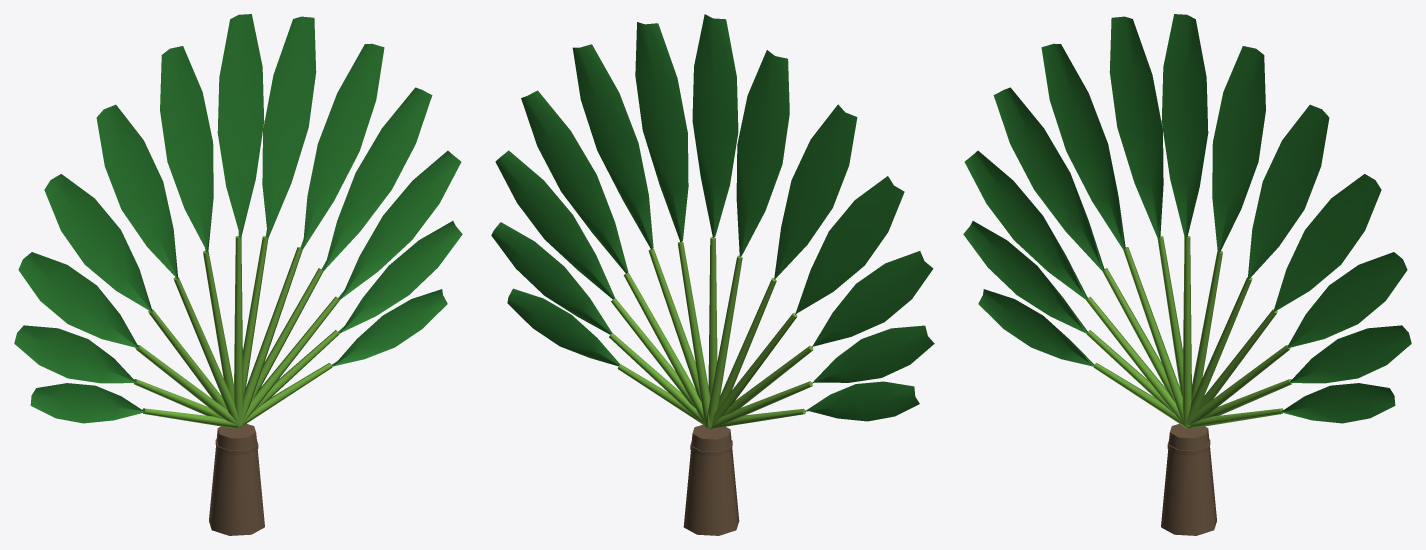
The model's file is tree_travelers_palm.glb.
The picture shows the model from 3 angles, left to right: view 1: azimuth 30°, elevation 25°; view 2: azimuth 150°, elevation 25°; view 3: azimuth 330°, elevation 25°; orthographic projection.
Visible parts, largest first — view 1: Fronds, Petioles, Trunk; view 2: Fronds, Petioles, Trunk; view 3: Fronds, Petioles, Trunk.
Part boxes in pixels (bbox=[...]): Fronds: bbox=[14, 14, 462, 423]; Petioles: bbox=[133, 236, 339, 428]; Trunk: bbox=[209, 423, 264, 535]; Fronds: bbox=[491, 14, 934, 421]; Petioles: bbox=[609, 237, 813, 429]; Trunk: bbox=[683, 424, 739, 535]; Fronds: bbox=[963, 14, 1411, 423]; Petioles: bbox=[1086, 236, 1292, 428]; Trunk: bbox=[1161, 423, 1216, 535].
Size of the model in its own units: 6.76 by 7.35 by 0.76.
